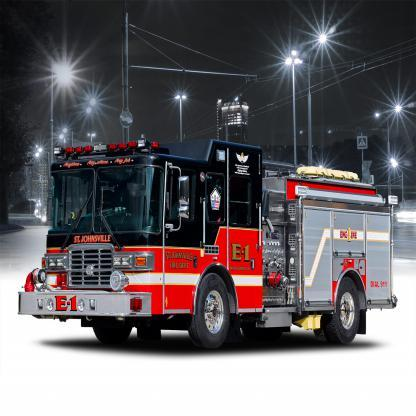fire-truck: (13, 96, 402, 365)
